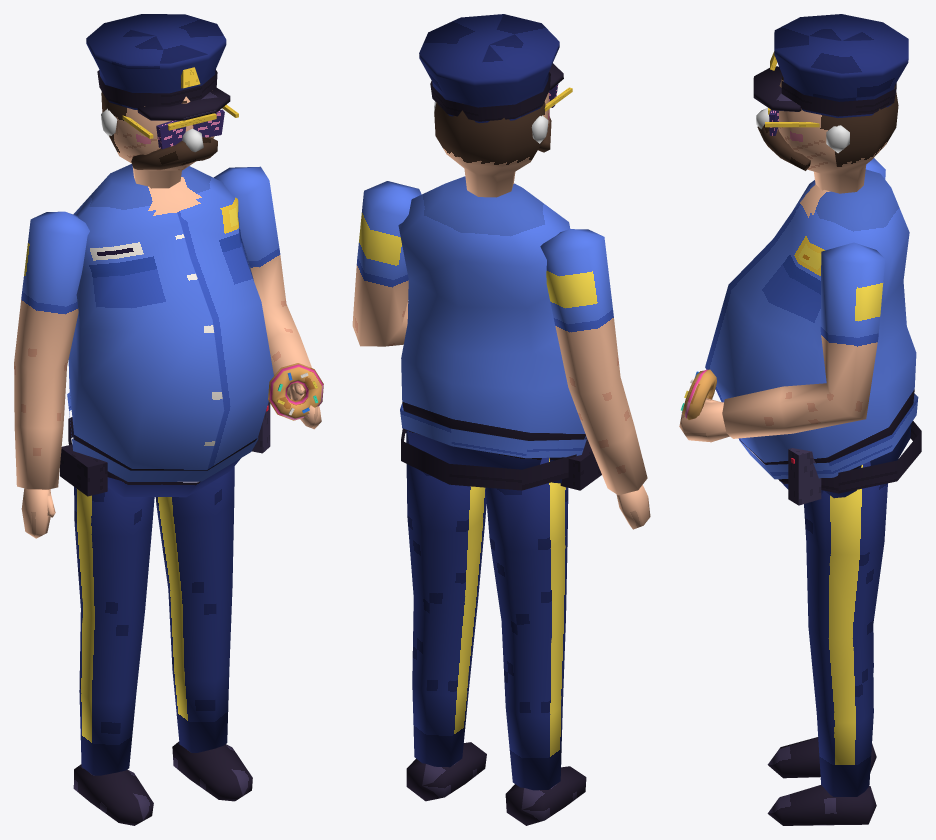
The model's file is Cop.fbx.
The picture shows the model from 3 angles, left to right: view 1: azimuth 30°, elevation 25°; view 2: azimuth 150°, elevation 25°; view 3: azimuth 270°, elevation 25°; orthographic projection.
Parts seen in each view (by area): view 1: Cop torso, Cop leg R.001, Cop leg L.001, Cop arm R.001, Cop police cap.001, Cop arm L.001, Cop shoe L, Cop shoe R, Cop head, Cop shirt tuck, Cop cuff pouch, Cop donut.001 (+6 smaller); view 2: Cop torso, Cop leg R.001, Cop leg L.001, Cop arm R.001, Cop police cap.001, Cop arm L.001, Cop head, Cop duty belt, Cop shirt tuck, Cop shoe R, Cop shoe L, Cop cap band (+2 smaller); view 3: Cop torso, Cop leg L.001, Cop arm L.001, Cop police cap.001, Cop head, Cop shoe L, Cop duty belt, Cop shirt tuck, Cop shoe R, Cop cap band, Cop radio.001, Cop hand L (+4 smaller).
Boxes of the visible parts, box(x1,y1,x2,y2) form: Cop torso: box(68, 164, 273, 497); Cop leg R.001: box(73, 428, 154, 775); Cop leg L.001: box(155, 466, 234, 752); Cop arm R.001: box(14, 211, 89, 489); Cop police cap.001: box(86, 14, 226, 109); Cop arm L.001: box(213, 166, 311, 398); Cop shoe L: box(172, 741, 252, 801); Cop shoe R: box(73, 764, 153, 825); Cop head: box(101, 91, 214, 188); Cop shirt tuck: box(67, 392, 258, 481); Cop cuff pouch: box(60, 444, 107, 496); Cop donut.001: box(268, 363, 323, 420); Cop torso: box(398, 176, 585, 483); Cop leg R.001: box(485, 457, 568, 790); Cop leg L.001: box(406, 429, 486, 767); Cop arm R.001: box(540, 229, 647, 495); Cop police cap.001: box(419, 14, 559, 123); Cop arm L.001: box(352, 181, 421, 346); Cop head: box(434, 92, 549, 197); Cop duty belt: box(401, 428, 576, 490); Cop shirt tuck: box(400, 403, 586, 458); Cop shoe R: box(505, 766, 586, 825); Cop shoe L: box(406, 742, 486, 801); Cop cap band: box(430, 72, 550, 121); Cop torso: box(705, 169, 916, 498); Cop leg L.001: box(804, 461, 887, 796); Cop arm L.001: box(722, 242, 885, 438); Cop police cap.001: box(774, 14, 908, 117); Cop head: box(778, 76, 898, 193); Cop shoe L: box(767, 785, 876, 825); Cop duty belt: box(778, 421, 921, 493); Cop shirt tuck: box(739, 393, 918, 479); Cop shoe R: box(767, 737, 876, 778); Cop cap band: box(781, 73, 896, 116); Cop radio.001: box(788, 448, 821, 505); Cop hand L: box(679, 402, 729, 442).
Bounding box in the file's own units: 0.6939 × 1.82 × 0.5259.
28 materials, 26 textured.
